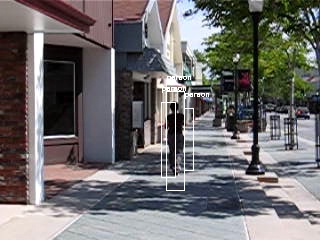person: (165, 101, 188, 176), (164, 101, 187, 176), (166, 101, 189, 176), (165, 100, 188, 175), (165, 102, 188, 177)
target_negative: (82, 12, 276, 223), (8, 36, 289, 157), (45, 199, 155, 210), (63, 114, 312, 118), (229, 153, 310, 159)
